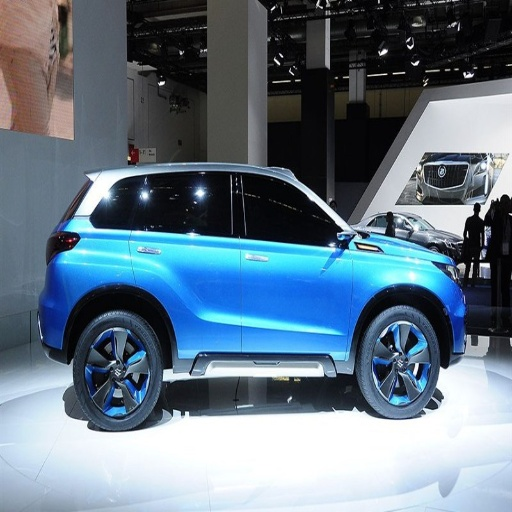back_right_door: (133, 171, 242, 364)
front_right_door: (238, 172, 350, 363)
